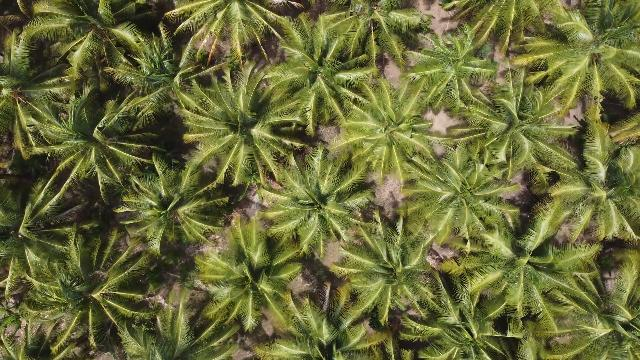trees: (11, 222, 165, 359), (19, 78, 168, 207), (179, 61, 306, 195), (448, 68, 581, 192), (509, 4, 640, 123), (528, 114, 637, 255), (336, 210, 450, 332), (195, 218, 308, 340), (411, 260, 547, 360), (3, 16, 93, 165), (335, 77, 444, 193), (262, 148, 374, 260), (403, 144, 519, 252), (528, 256, 639, 359), (168, 3, 312, 75), (408, 28, 499, 118), (4, 168, 83, 250), (441, 3, 550, 60), (106, 27, 186, 99)
